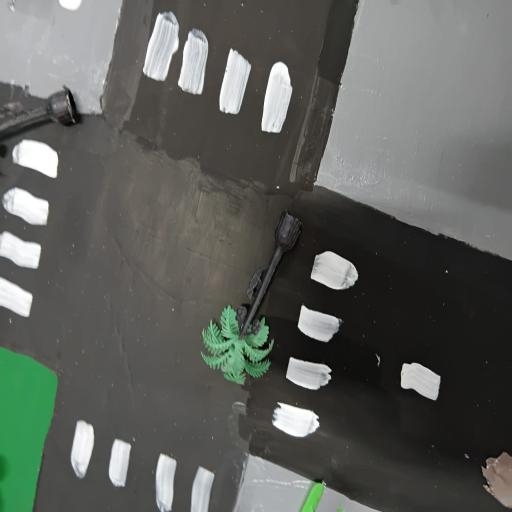fallen trees: (196, 206, 310, 392), (0, 71, 90, 175)
